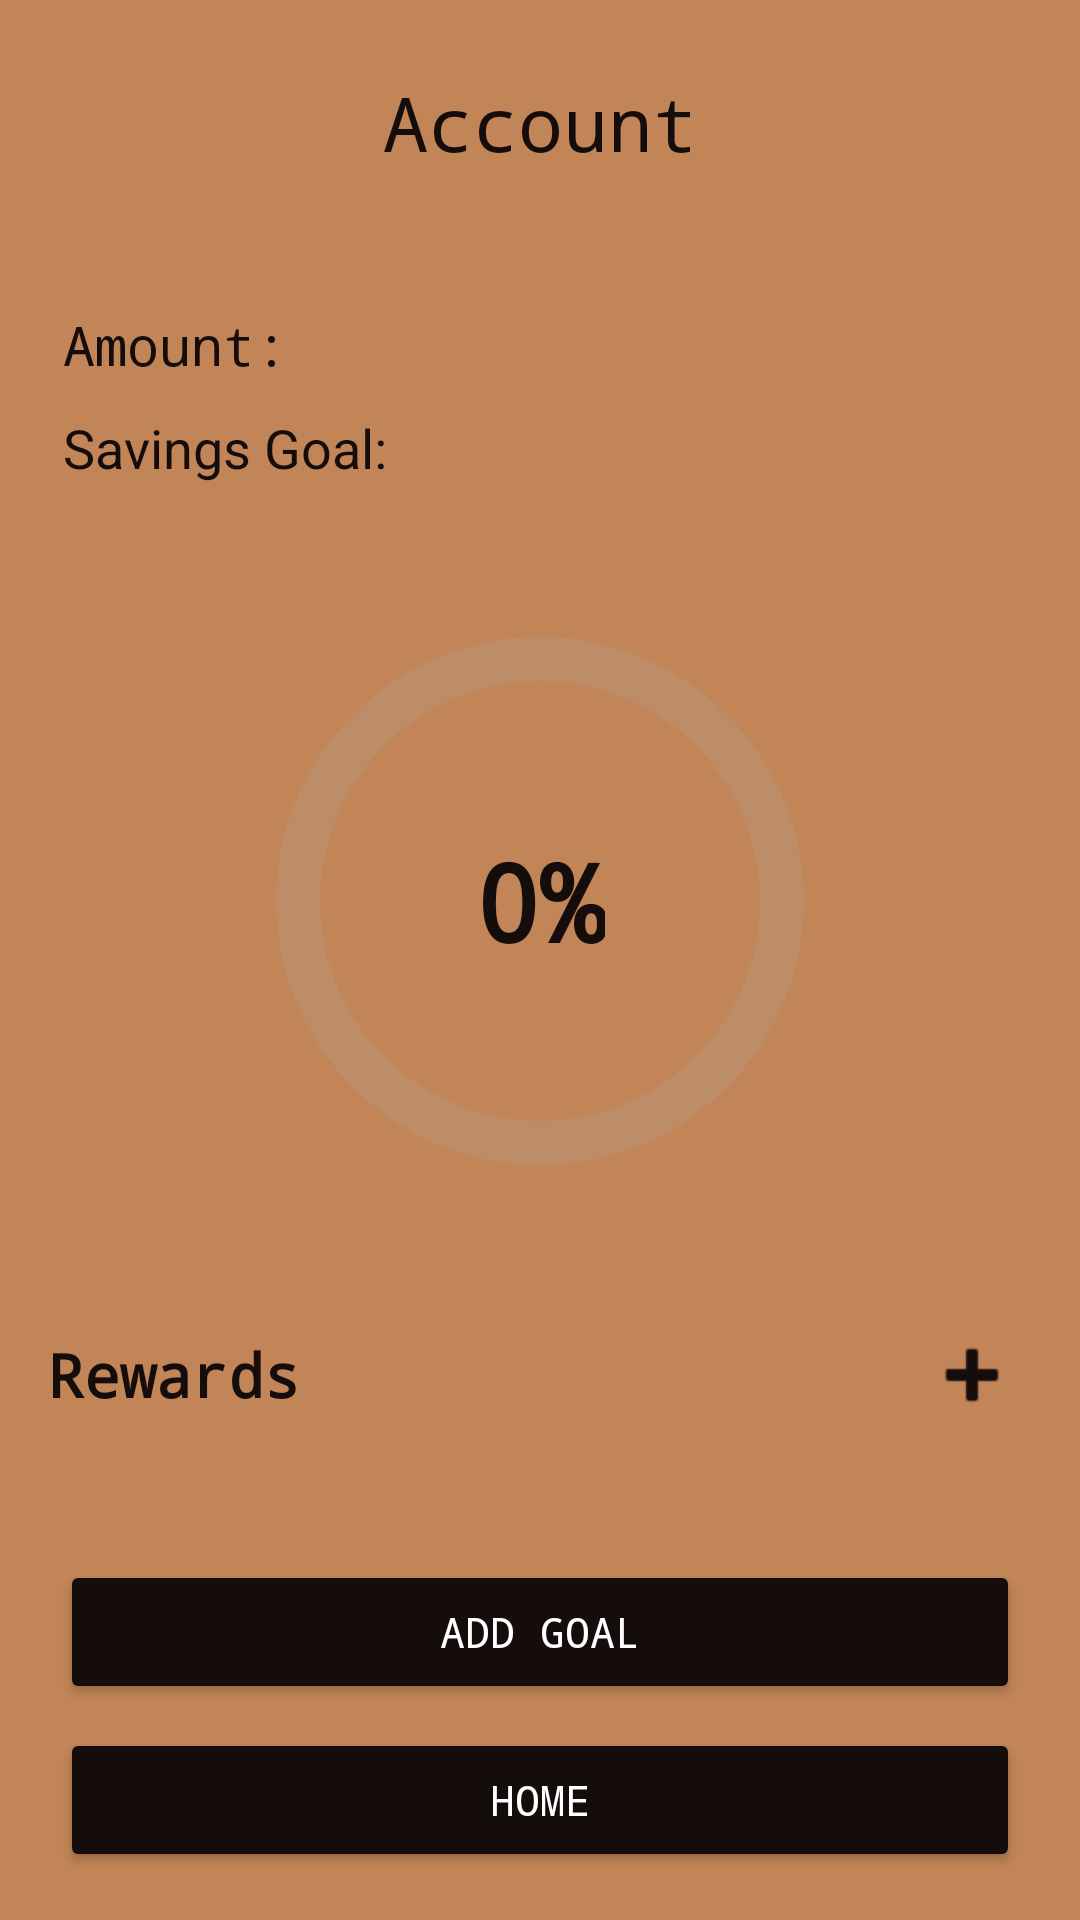

Icons on this 1080px×1920px Android screen, each with the point to tap as [x,y]:
Add Reward: [972,1375]
